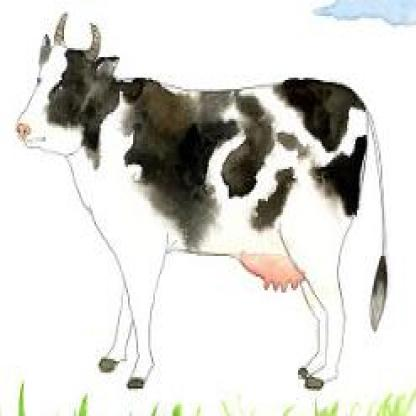cow: (17, 33, 387, 390)
